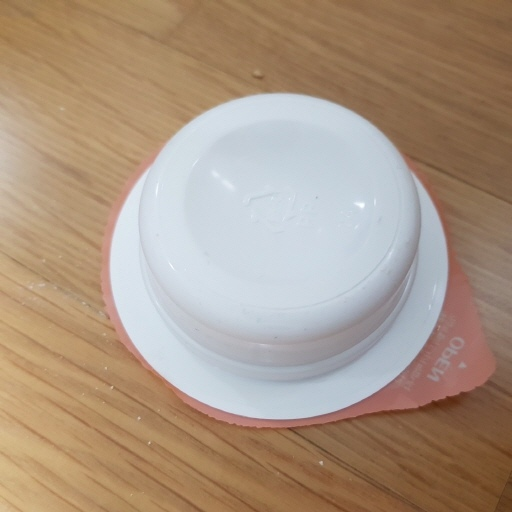Plastic_5: (100, 91, 455, 426)
